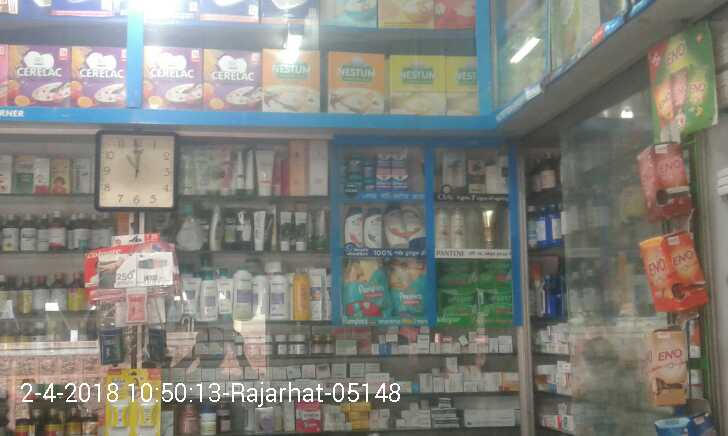vicks: (349, 150, 408, 192)
